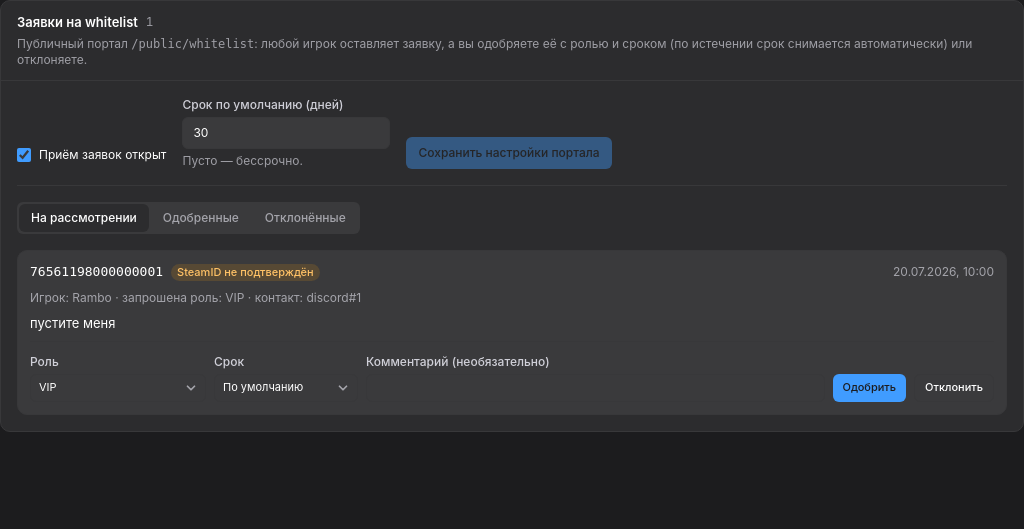
Test case: ApplicationsSection › surfaces an API error when a decision fails
Expected: the text "76561198000000001" is shown, [30, 263, 163, 282]
Click the button "Одобрить" at (869,388), box [832, 374, 906, 402]
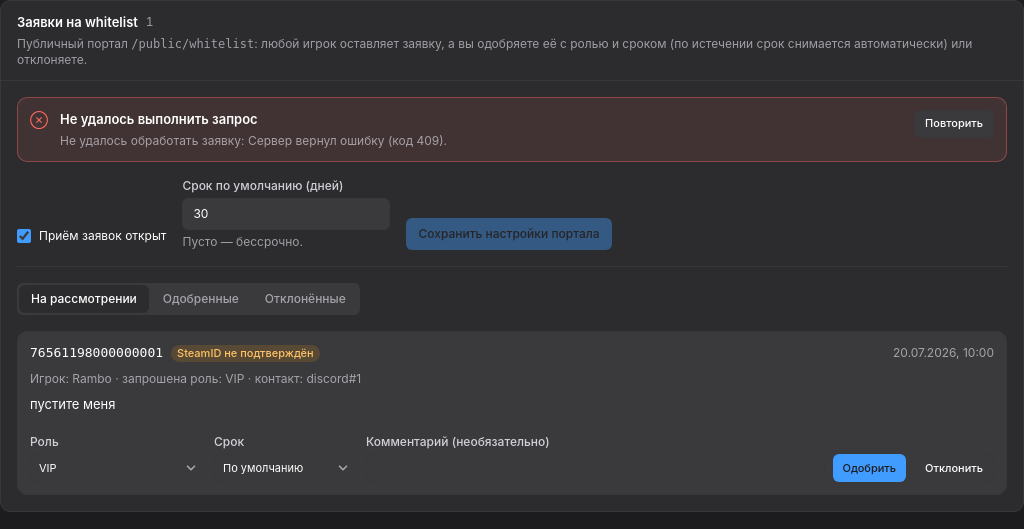
Result: the text "Не удалось обработать заявку" is shown at [60, 133, 447, 148]
